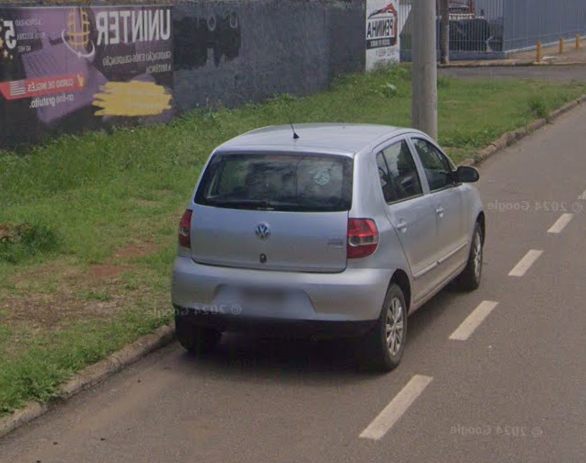car: (163, 108, 497, 375)
